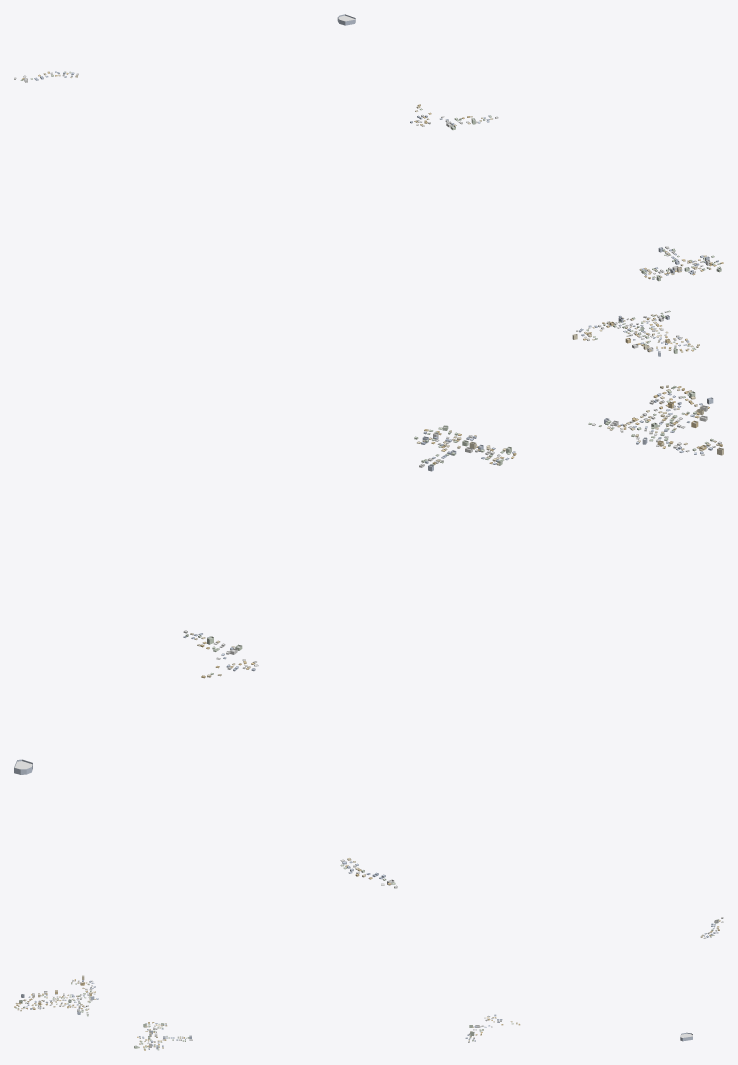
The picture shows the model from 3 angles, top to bottom: view 1: azimuth 30°, elevation 25°; view 2: azimuth 150°, elevation 25°; view 3: azimuth 270°, elevation 25°; orthographic projection. The views are drawn at different scales.
Visible parts, largest first — view 1: house, roof_zinc, apartment; view 2: house, roof_zinc, apartment; view 3: house, roof_zinc, apartment.
Part boxes in pixels (x1=…): house: x1=14, y1=71, x2=723, y2=352; roof_zinc: x1=14, y1=71, x2=723, y2=352; apartment: x1=24, y1=14, x2=721, y2=356; house: x1=183, y1=385, x2=722, y2=888; roof_zinc: x1=184, y1=385, x2=721, y2=886; apartment: x1=14, y1=391, x2=723, y2=885; house: x1=14, y1=917, x2=723, y2=1050; roof_zinc: x1=14, y1=917, x2=722, y2=1050; apartment: x1=19, y1=920, x2=718, y2=1049.
Size of the model in its own units: 6.35e+07 by 741725 by 1.43e+08.
